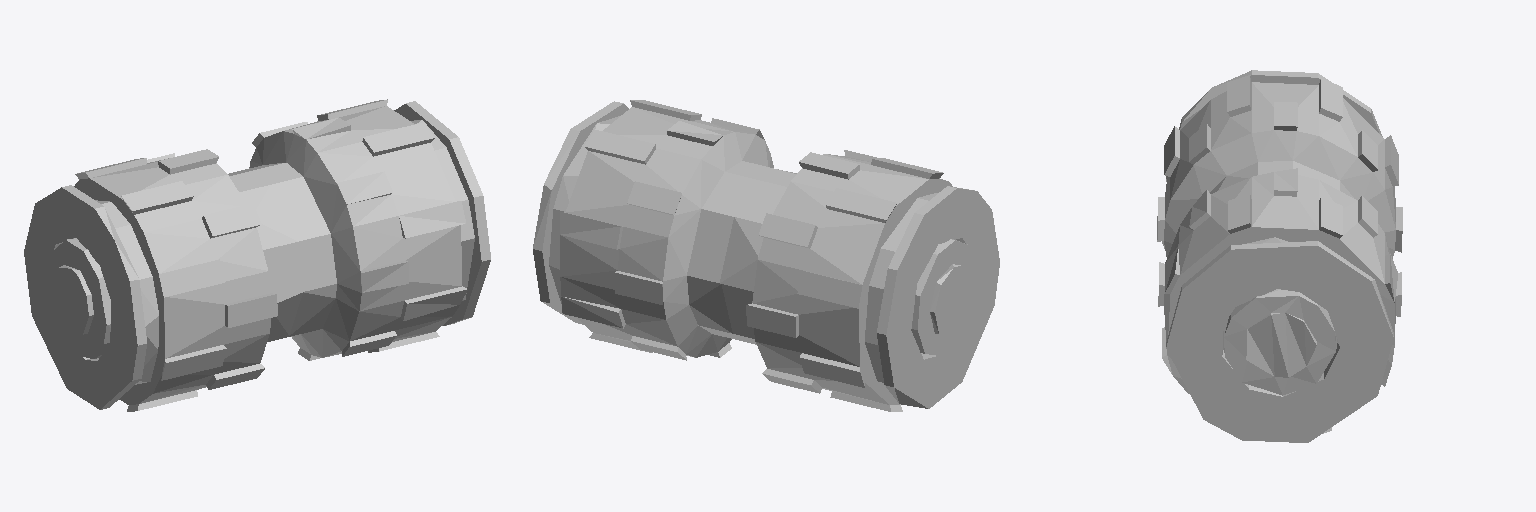
Rendered from Kola_000016.obj.
3 renders of one model, left to right at view 1: azimuth 30°, elevation 25°; view 2: azimuth 150°, elevation 25°; view 3: azimuth 270°, elevation 25°, orthographic.
Visible parts, largest first — view 1: Cylinder.004; view 2: Cylinder.004; view 3: Cylinder.004.
Boxes of the visible parts, x1,y1,x2,y2 form: Cylinder.004: [24, 99, 490, 411]; Cylinder.004: [533, 100, 999, 411]; Cylinder.004: [1157, 70, 1402, 442].
Size of the model in its own units: 2.17 by 1.25 by 1.25.